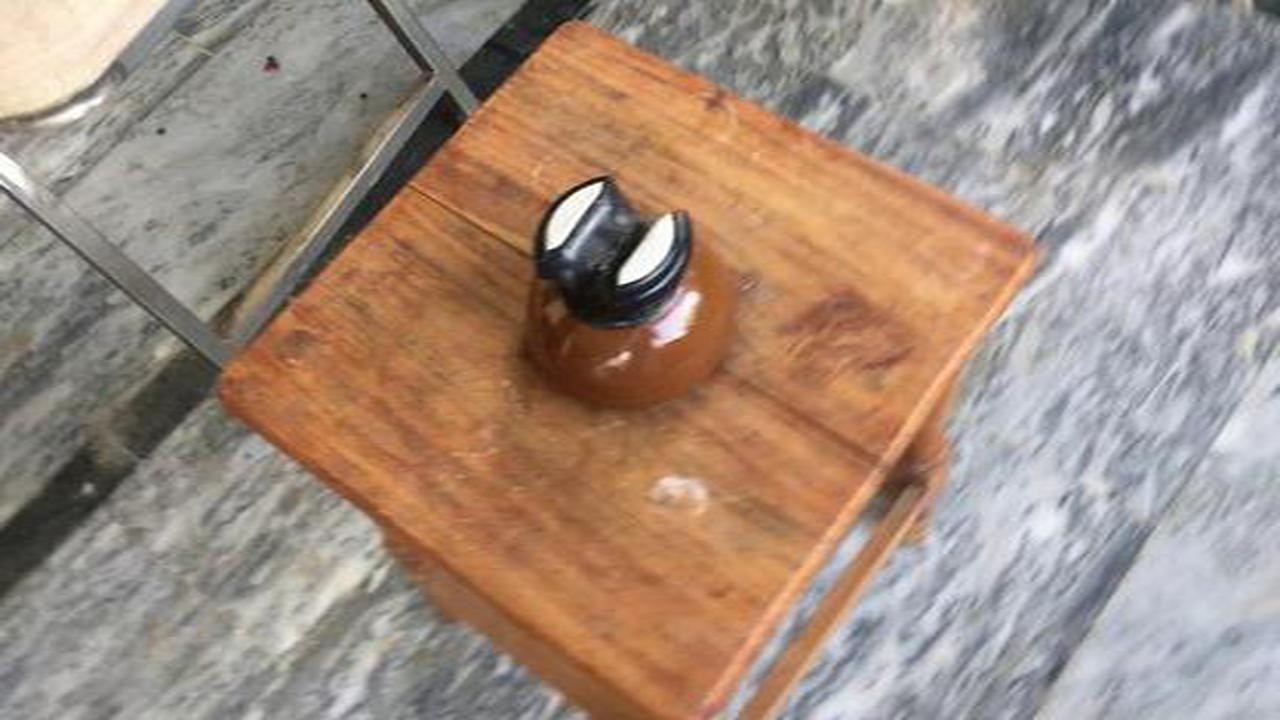insulator_pin: (484, 158, 751, 419)
